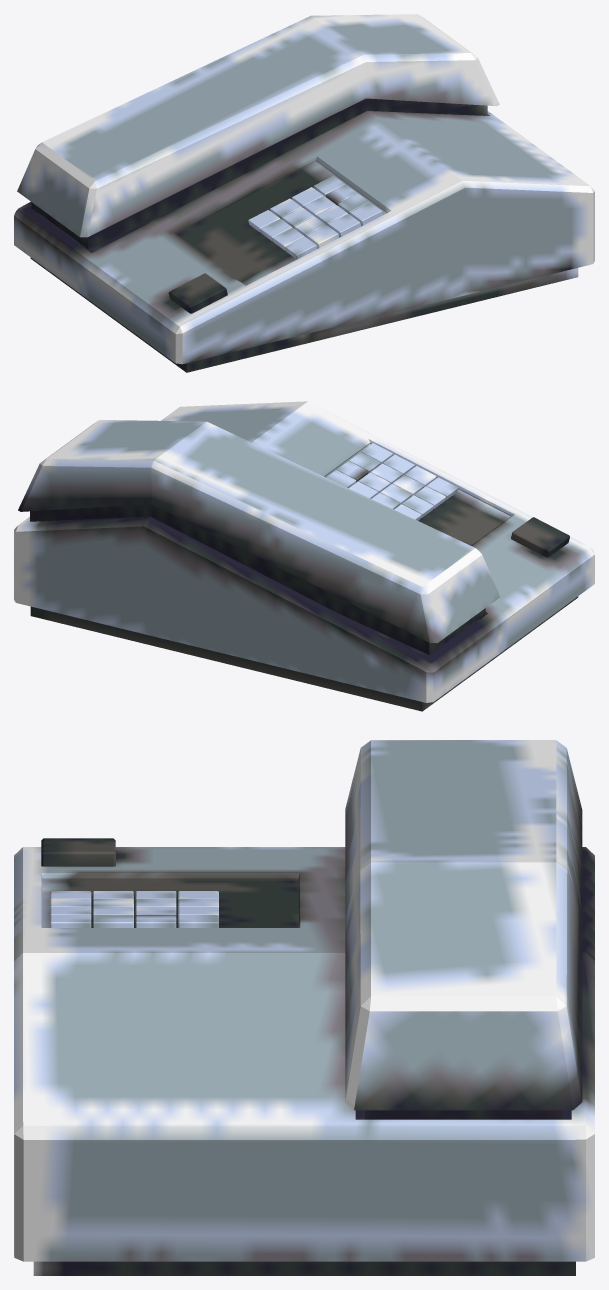
File: 6_TELEFON.fbx
3 renders of one model, top to bottom at view 1: azimuth 30°, elevation 25°; view 2: azimuth 150°, elevation 25°; view 3: azimuth 270°, elevation 25°, orthographic. The views are drawn at different scales.
Visible parts, largest first — view 1: Plane.009, Plane.049; view 2: Plane.009, Plane.049; view 3: Plane.009, Plane.049.
Part boxes in pixels (x1,y1,x2,y2): Plane.009: (14, 111, 594, 372); Plane.049: (17, 14, 499, 249); Plane.009: (14, 401, 594, 711); Plane.049: (18, 420, 500, 654); Plane.009: (14, 838, 594, 1275); Plane.049: (345, 740, 582, 1119).
Size of the model in its own units: 48.41 by 19.84 by 33.3.
